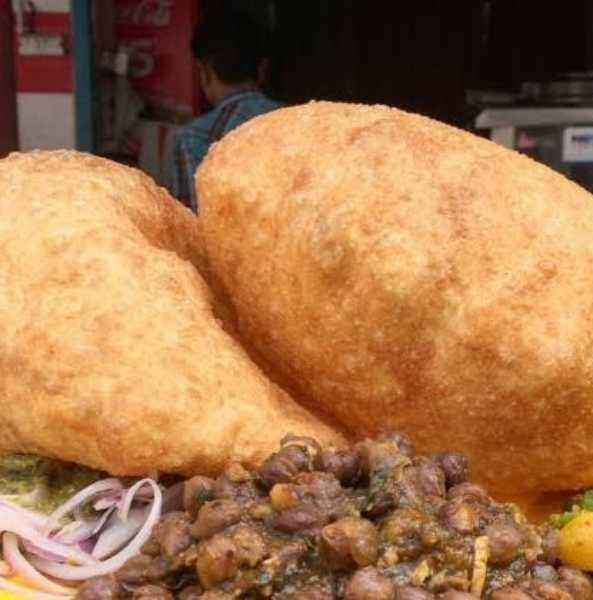Bhatura: (2, 98, 593, 465)
Chole: (143, 444, 556, 600)
